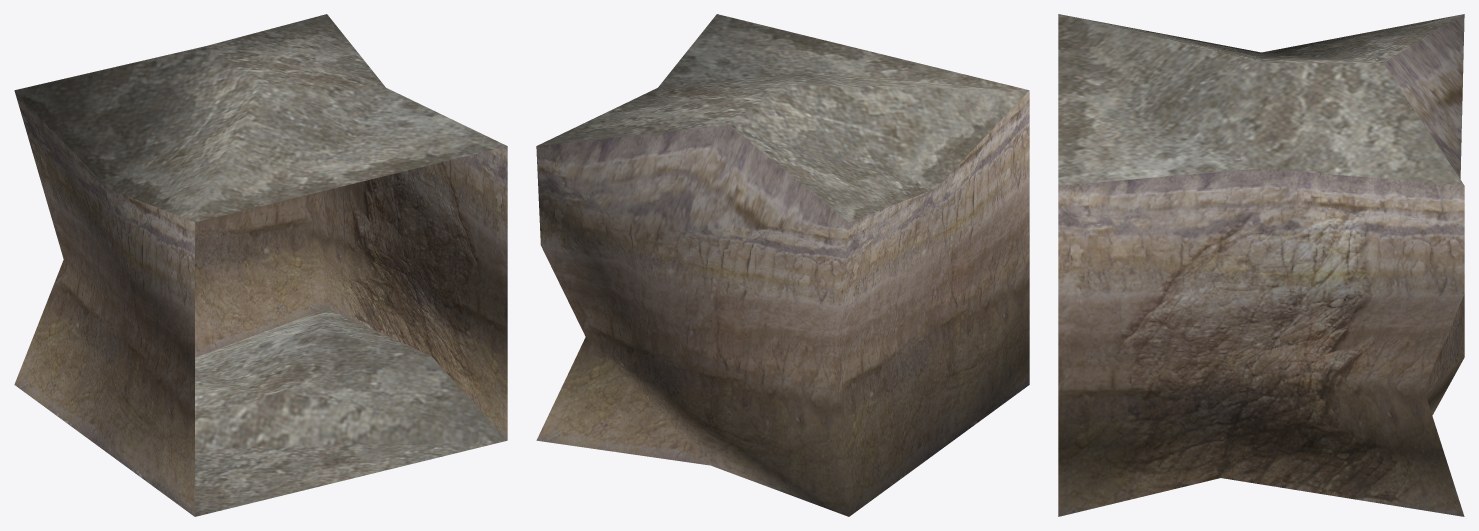
The model's file is endCaptileds.obj.
The picture shows the model from 3 angles, left to right: view 1: azimuth 30°, elevation 25°; view 2: azimuth 150°, elevation 25°; view 3: azimuth 270°, elevation 25°; orthographic projection. The views are drawn at different scales.
Visible parts, largest first — view 1: stile004; view 2: stile004; view 3: stile004.
Part boxes in pixels (<box>): stile004: <box>14,14,507,516</box>; stile004: <box>536,14,1029,516</box>; stile004: <box>1058,14,1464,516</box>.
Bounding box in the file's own units: 1 × 1 × 1.
1 material, 1 textured.
